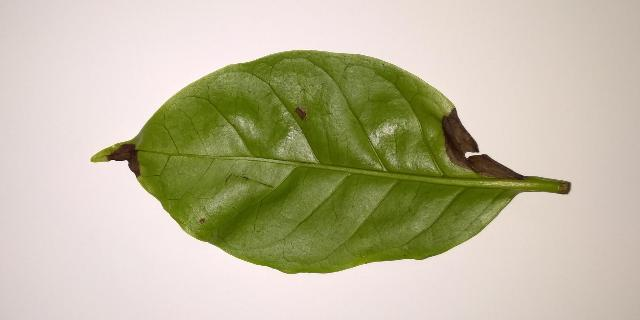rust: (441, 105, 535, 181), (108, 143, 140, 178)
